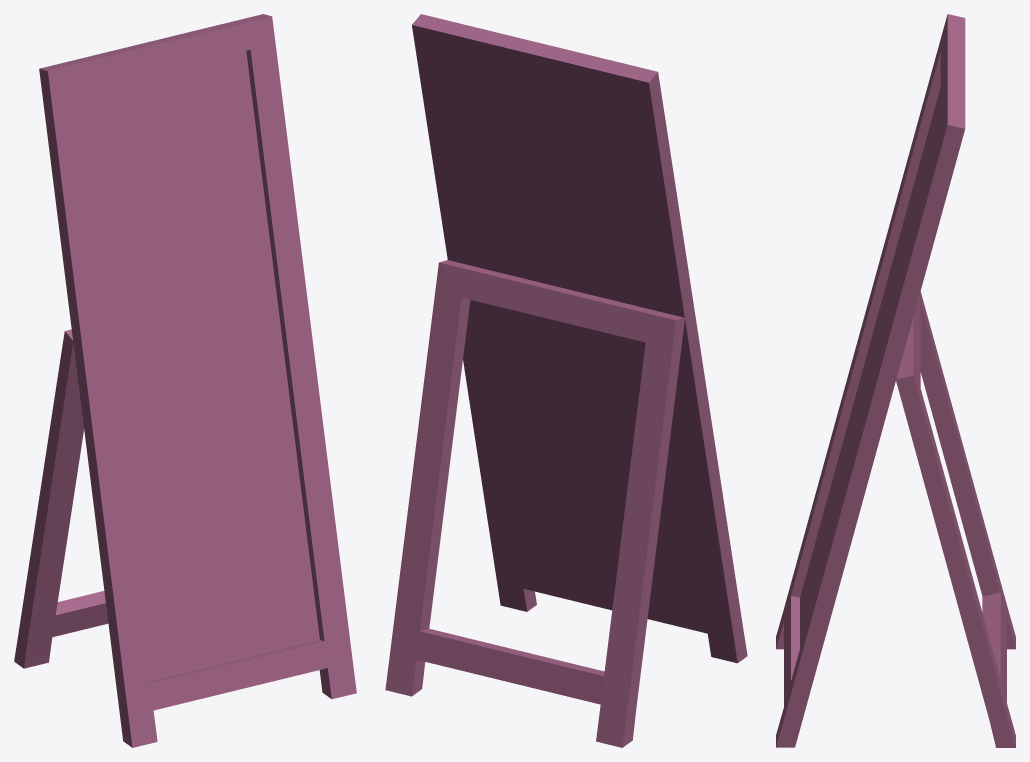
The model's file is FreestandMirror.fbx.
The picture shows the model from 3 angles, left to right: view 1: azimuth 30°, elevation 25°; view 2: azimuth 150°, elevation 25°; view 3: azimuth 270°, elevation 25°; orthographic projection. The views are drawn at different scales.
Visible parts, largest first — view 1: FreestandMirror; view 2: FreestandMirror; view 3: FreestandMirror.
Boxes of the visible parts, bbox=[...] form: FreestandMirror: bbox=[14, 14, 356, 747]; FreestandMirror: bbox=[385, 14, 747, 747]; FreestandMirror: bbox=[776, 14, 1015, 747].
Bounding box in the file's own units: 66 × 173 × 60.35.
